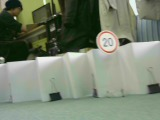speed_20: (96, 30, 118, 54)
